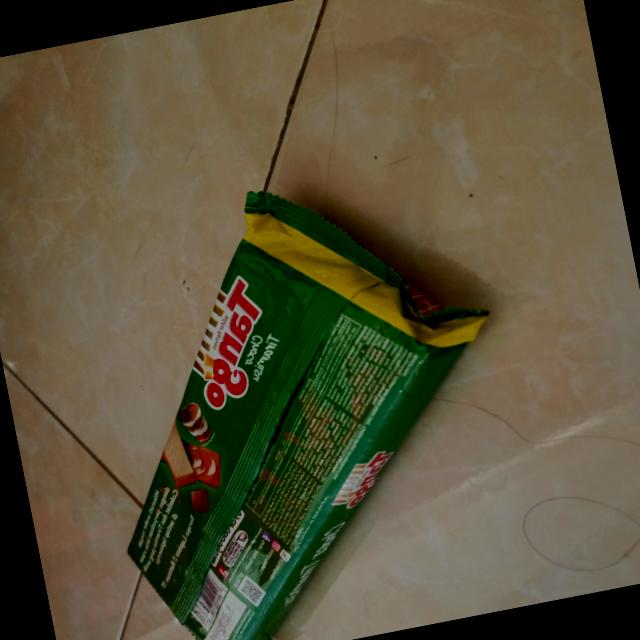tango-tiramisu: (62, 147, 547, 640)
